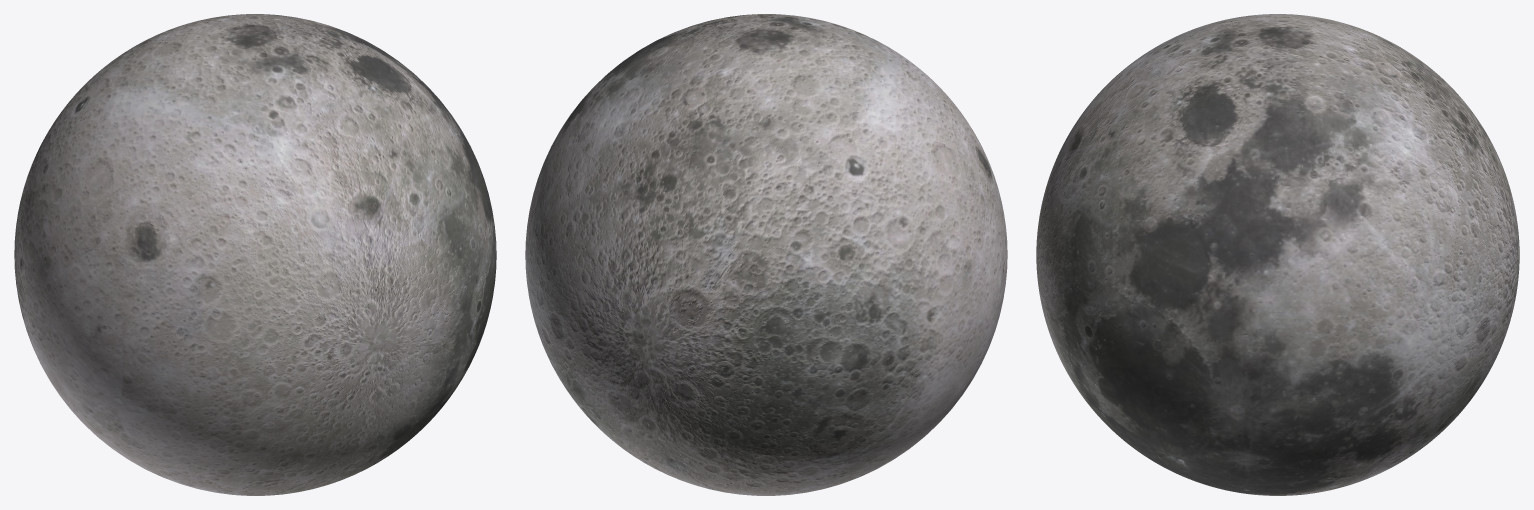
File: moon.glb
The picture shows the model from 3 angles, left to right: view 1: azimuth 30°, elevation 25°; view 2: azimuth 150°, elevation 25°; view 3: azimuth 270°, elevation 25°; orthographic projection.
Visible parts, largest first — view 1: Moon; view 2: Moon; view 3: Moon.
Part boxes in pixels (x1,y1,x2,y2): Moon: (14,14,496,495); Moon: (525,14,1007,495); Moon: (1036,14,1519,495).
Size of the model in its own units: 1.99 by 1.99 by 2.
Materials: 1 (1 with a texture image).
